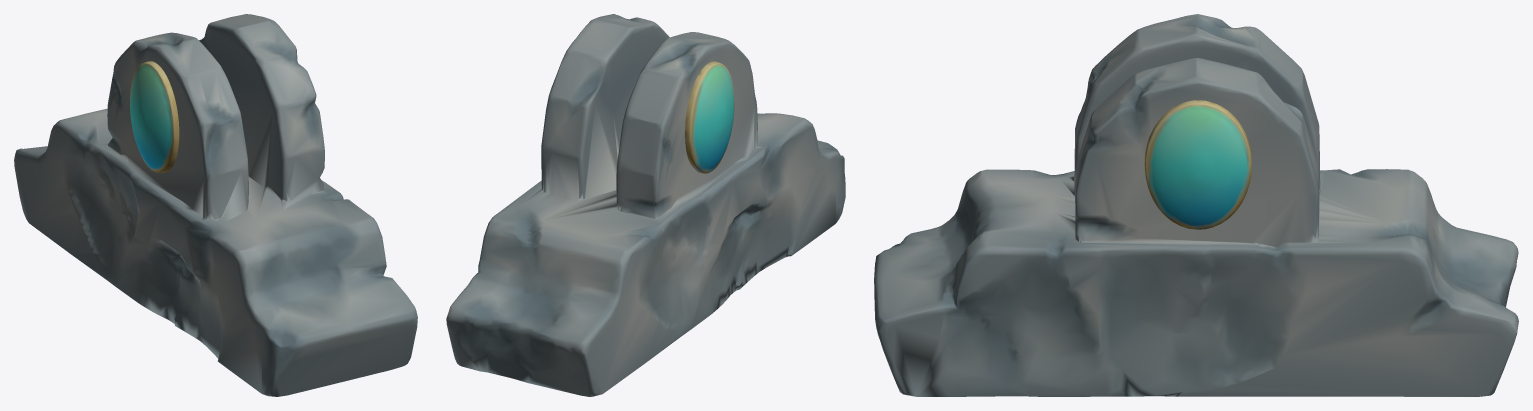
The model's file is SM_leverBase.fbx.
3 views of the same model, side by side, from view 1: azimuth 30°, elevation 25°; view 2: azimuth 150°, elevation 25°; view 3: azimuth 270°, elevation 25° (orthographic). The views are drawn at different scales.
Parts seen in each view (by area): view 1: UMesh_base1; view 2: UMesh_base1; view 3: UMesh_base1.
Boxes of the visible parts, <box> form: UMesh_base1: <box>14,14,417,396</box>; UMesh_base1: <box>446,14,845,396</box>; UMesh_base1: <box>874,14,1518,396</box>.
Size of the model in its own units: 26.28 by 43.43 by 81.9.
